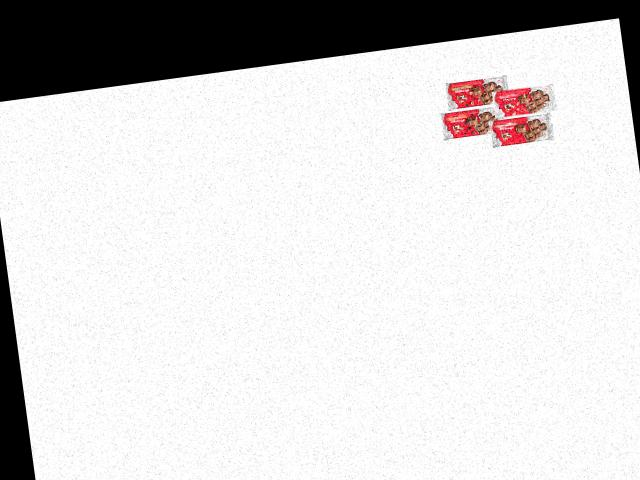chocolate: (439, 71, 514, 116)
